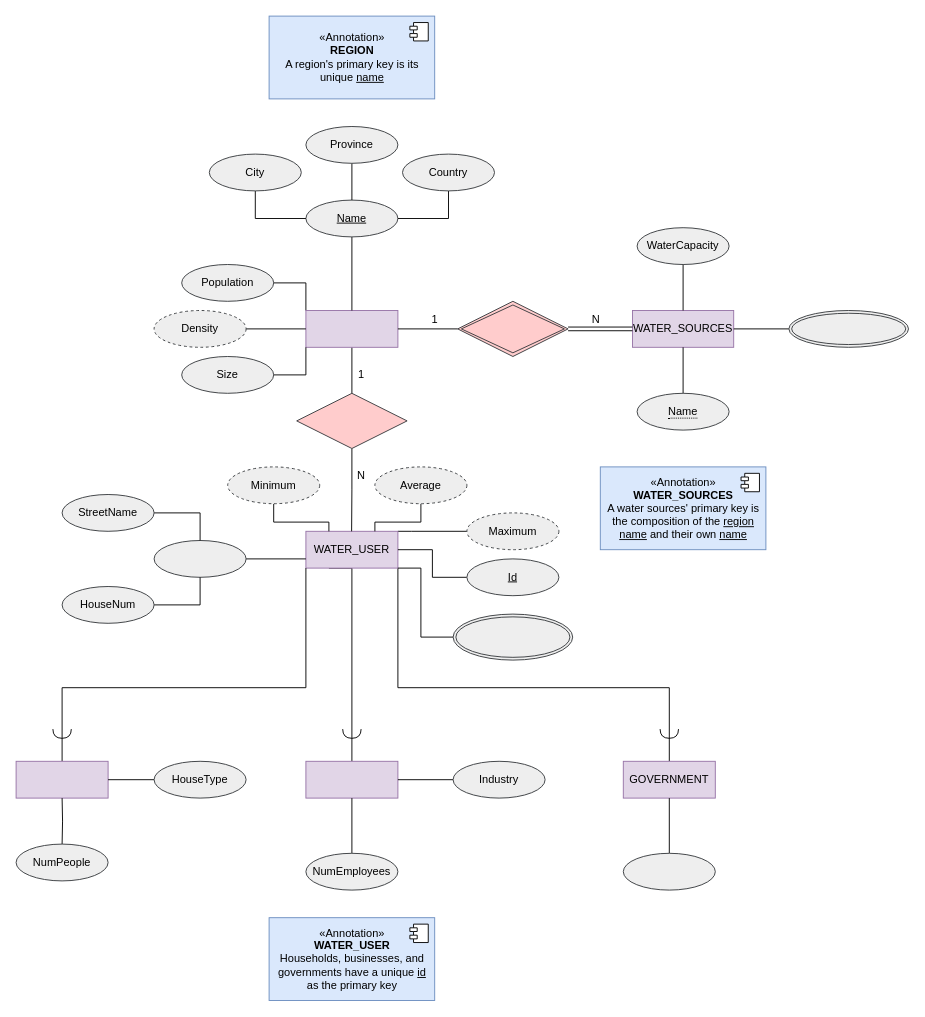
Some shapes in this 925 by 1017 pixel diagram are drawn without their labels. The centre of each missing label's shape, as x and y in pixels:
ACCESSES: point 512,328
Address: point 199,558
BUSINESS: point 351,779
FacilityType: point 668,871
HAS: point 351,420
HOUSEHOLD: point 61,779
PeriodicWaterLevel: point 848,328
PeriodicWaterUsage: point 512,636
REGION: point 351,328
